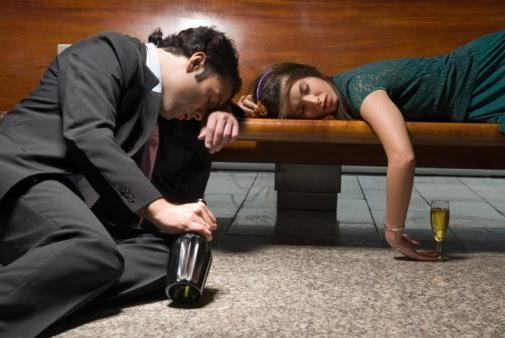Drunk: (163, 64, 235, 125), (268, 70, 339, 122)
